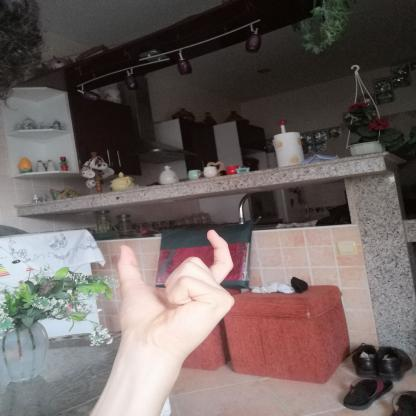NOON: (95, 219, 250, 372)
